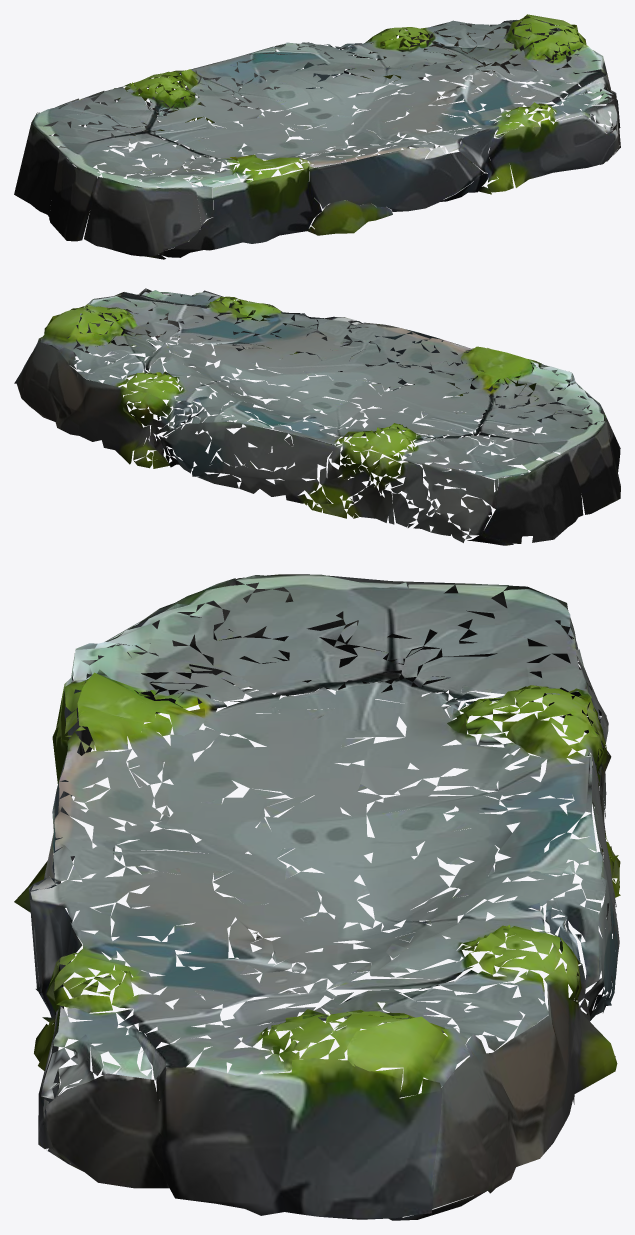
The model's file is rock_slab.glb.
3 renders of one model, top to bottom at view 1: azimuth 30°, elevation 25°; view 2: azimuth 150°, elevation 25°; view 3: azimuth 270°, elevation 25°, orthographic. The views are drawn at different scales.
Parts seen in each view (by area): view 1: rock_slab; view 2: rock_slab; view 3: rock_slab.
Part boxes in pixels (left/top/right/bottom): rock_slab: left=14, top=14, right=620, bottom=259; rock_slab: left=14, top=288, right=620, bottom=545; rock_slab: left=14, top=574, right=620, bottom=1220.
Size of the model in its own units: 2.3 by 0.3076 by 1.09.
1 material, 1 textured.
